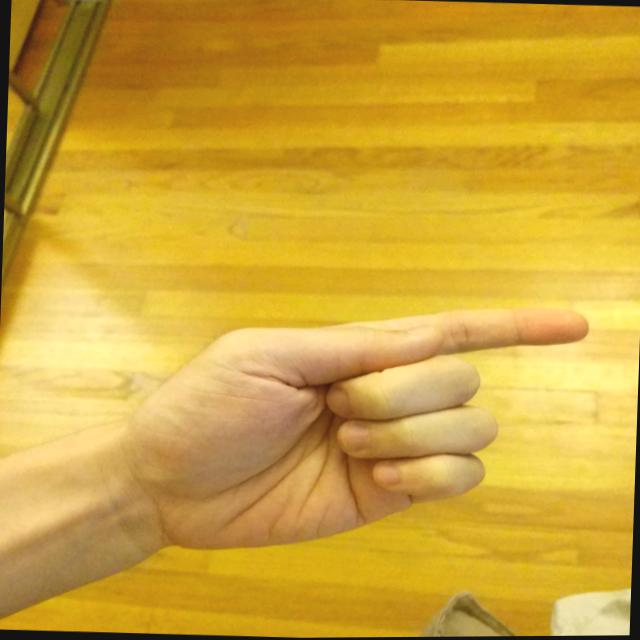G: (115, 285, 598, 572)
